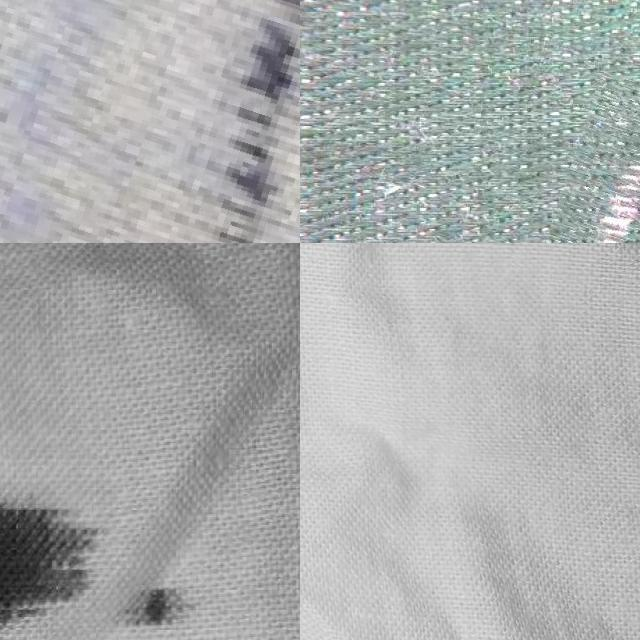Hole: (0, 421, 105, 640), (112, 564, 210, 640)
Thread_other: (549, 78, 640, 243)
